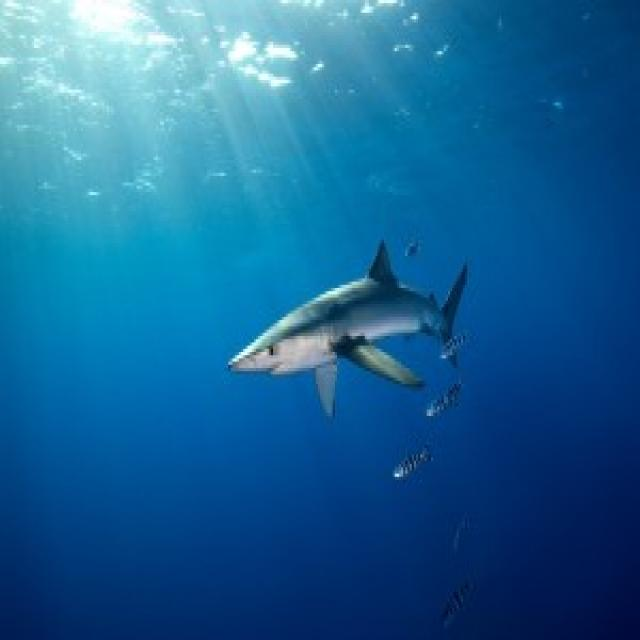Shark: (224, 216, 485, 407)
